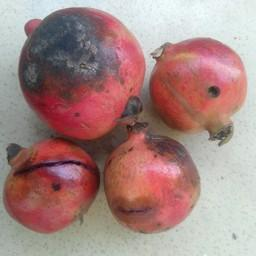Bad_pomegranate: (14, 5, 148, 138), (148, 35, 252, 146), (103, 128, 203, 236), (1, 138, 100, 236)
